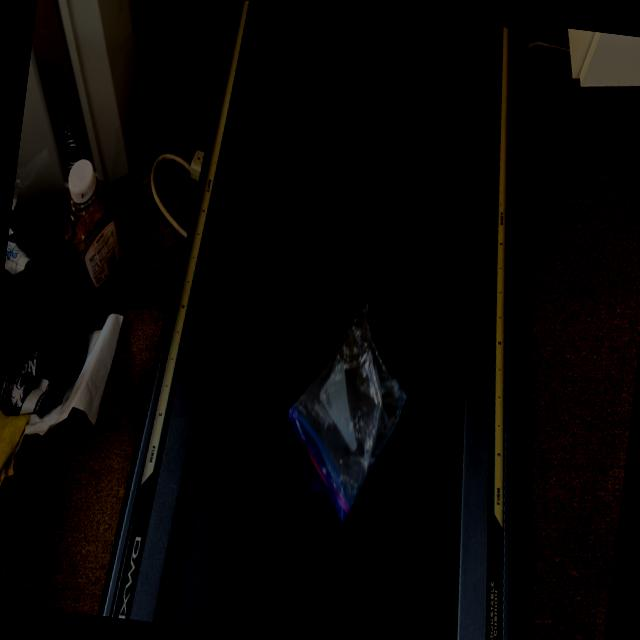Trash: (275, 295, 419, 531)
